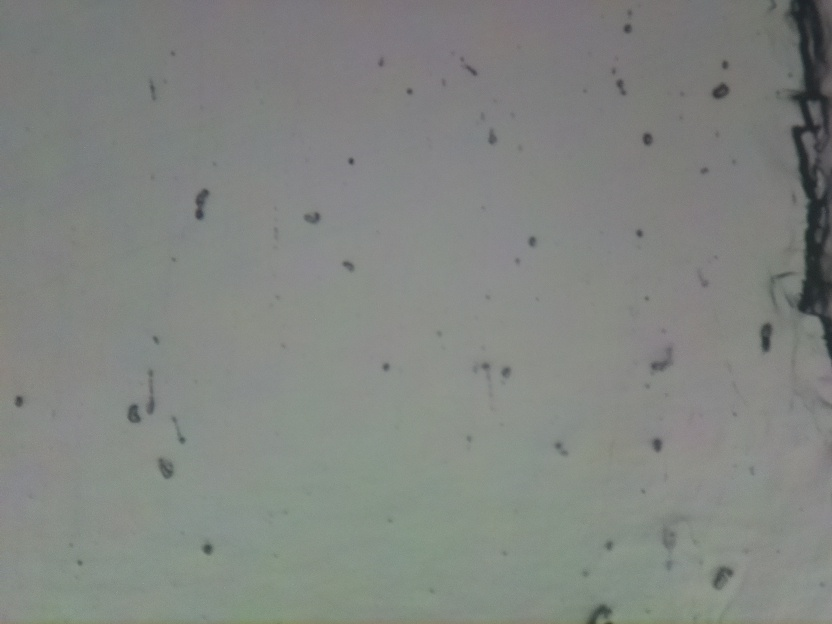crack: (793, 0, 832, 364)
